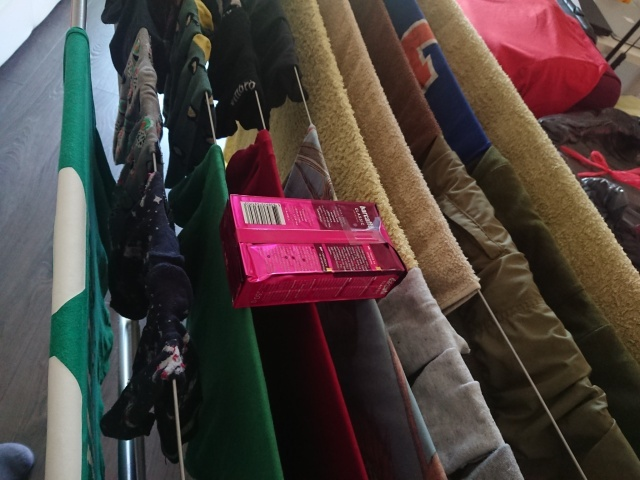Barcaffe Classic Original 225g: (216, 190, 415, 311)
